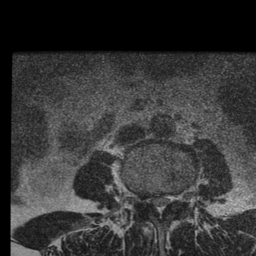CCS_normal: (156, 187, 163, 227)
LFS_stenosis: (172, 183, 181, 212)
LLS_stenosis: (163, 187, 172, 215)
RFS_severe_stenosis: (139, 187, 147, 213)
RLS_stenosis: (147, 187, 156, 214)
